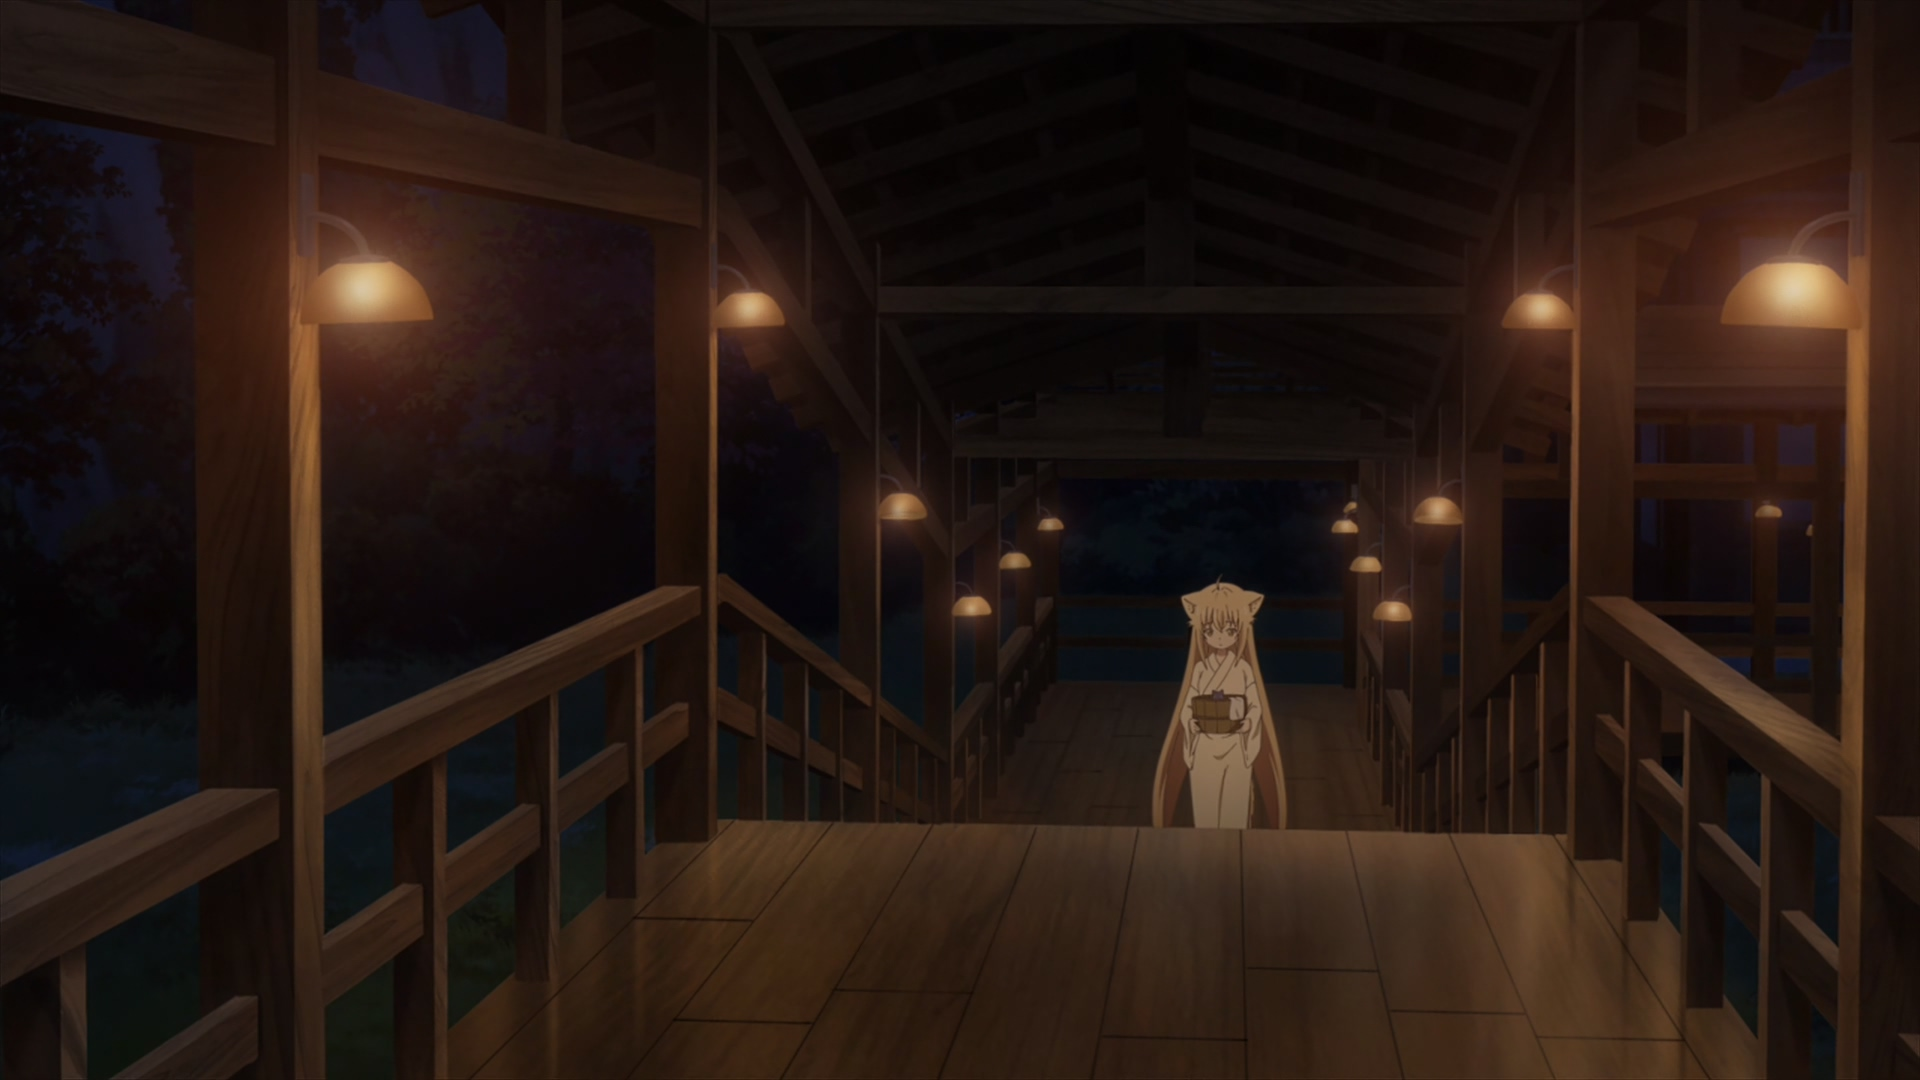柚: (1153, 580, 1287, 829)
